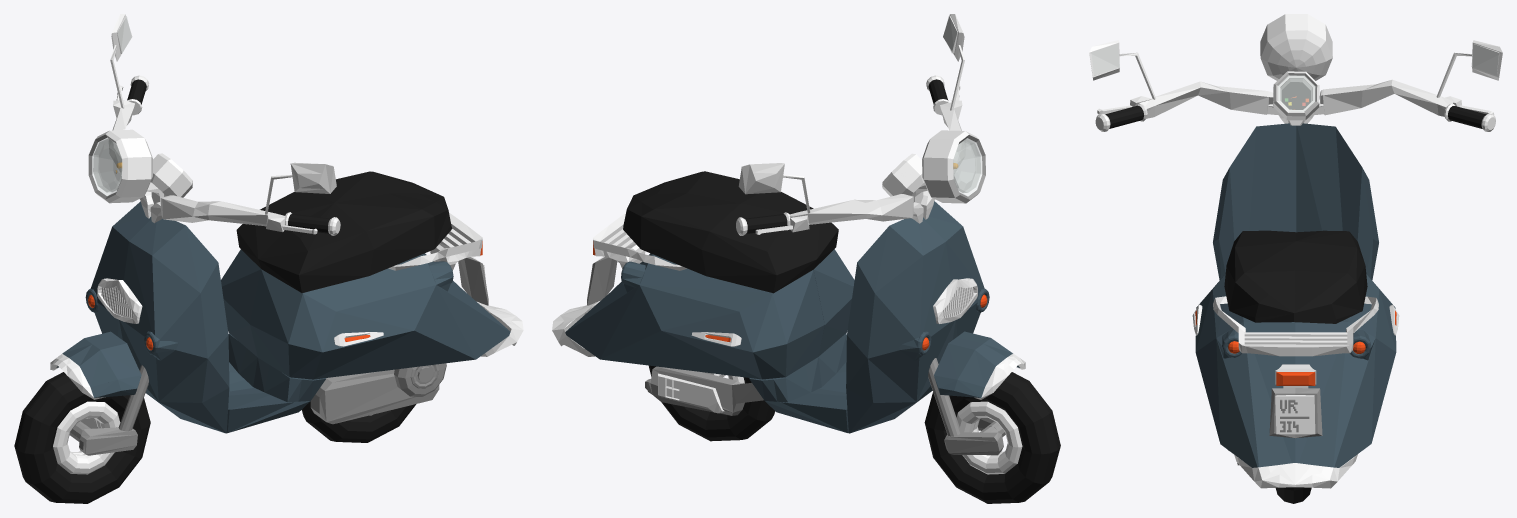
Rendered from VR-Mobil.glb.
The picture shows the model from 3 angles, left to right: view 1: azimuth 30°, elevation 25°; view 2: azimuth 150°, elevation 25°; view 3: azimuth 270°, elevation 25°; orthographic projection.
Parts seen in each view (by area): view 1: Node-Mesh, Node-Mesh_2, Node-Mesh_1, Node-Mesh_3, Node-Mesh_7, Node-Mesh_5; view 2: Node-Mesh, Node-Mesh_2, Node-Mesh_1, Node-Mesh_3, Node-Mesh_7, Node-Mesh_5; view 3: Node-Mesh, Node-Mesh_1, Node-Mesh_2, Node-Mesh_3, Node-Mesh_5, Node-Mesh_7, Node-Mesh_4.
Boxes of the visible parts, x1,y1,x2,y2 form: Node-Mesh: (56, 201, 510, 433); Node-Mesh_2: (14, 79, 452, 503); Node-Mesh_1: (50, 14, 523, 474); Node-Mesh_3: (69, 134, 488, 455); Node-Mesh_7: (93, 138, 122, 192); Node-Mesh_5: (92, 16, 131, 195); Node-Mesh: (565, 201, 1019, 433); Node-Mesh_2: (623, 79, 1060, 503); Node-Mesh_1: (552, 14, 1025, 474); Node-Mesh_3: (587, 135, 1005, 455); Node-Mesh_7: (953, 138, 980, 192); Node-Mesh_5: (944, 16, 981, 196); Node-Mesh: (1195, 123, 1396, 467); Node-Mesh_1: (1089, 14, 1502, 488); Node-Mesh_2: (1105, 82, 1486, 503); Node-Mesh_3: (1228, 388, 1322, 465); Node-Mesh_5: (1092, 44, 1498, 75); Node-Mesh_7: (1278, 75, 1315, 111); Node-Mesh_4: (1195, 96, 1396, 385).
Bounding box in the file's own units: 4.86 × 3.6 × 3.52.
